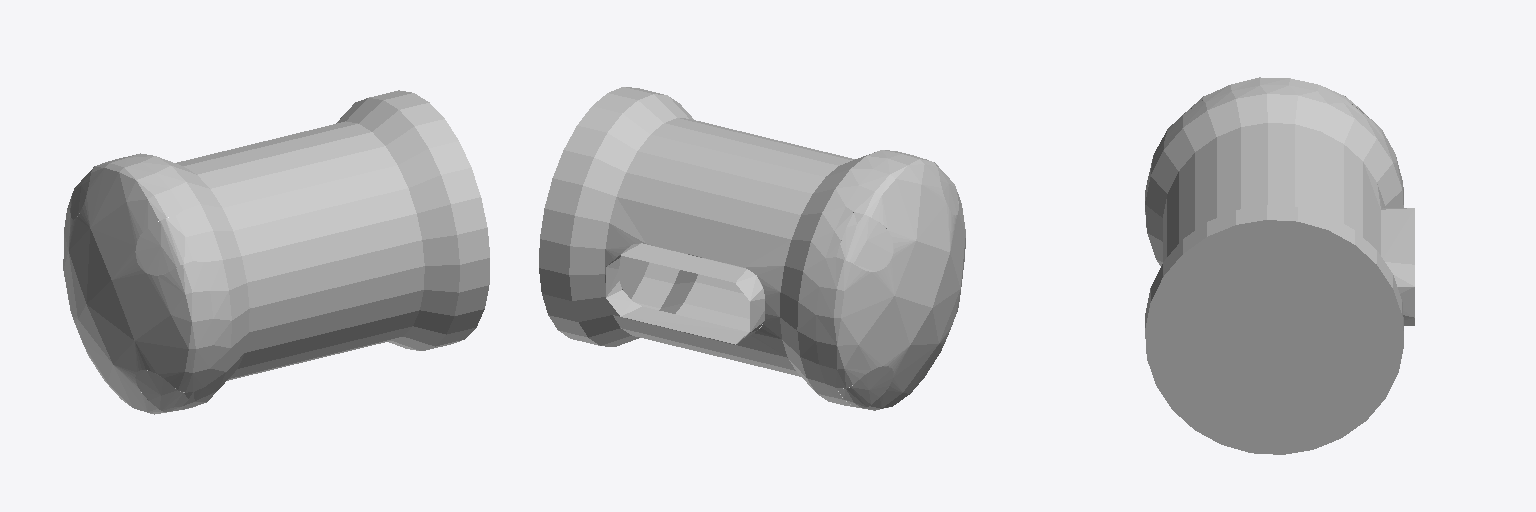
The model's file is left_light.obj.
3 views of the same model, side by side, from view 1: azimuth 30°, elevation 25°; view 2: azimuth 150°, elevation 25°; view 3: azimuth 270°, elevation 25° (orthographic).
Bounding box in the file's own units: 0.0549 × 0.0369 × 0.0385.